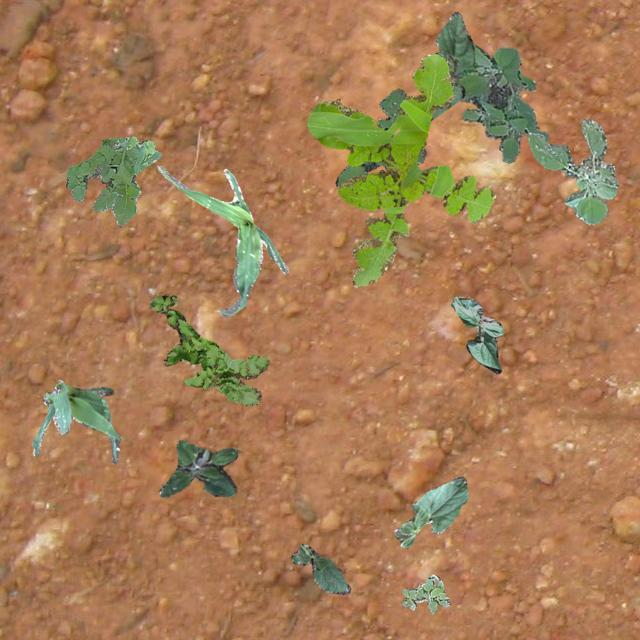crop: (156, 164, 288, 316), (30, 378, 120, 464), (392, 476, 467, 546), (430, 10, 474, 120), (450, 296, 502, 372), (288, 544, 349, 594)
weed: (306, 52, 494, 286), (434, 42, 548, 162), (148, 294, 268, 404), (527, 118, 617, 224), (334, 88, 426, 186), (66, 136, 160, 227), (158, 440, 236, 496), (400, 574, 450, 612)
